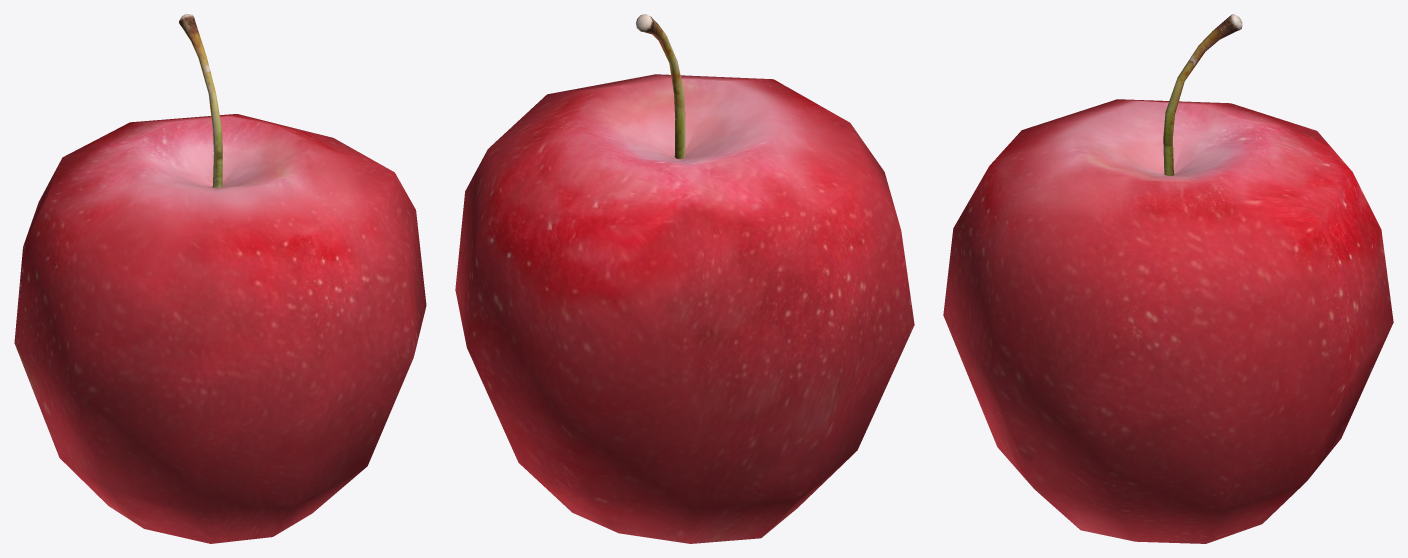
3 renders of one model, left to right at view 1: azimuth 30°, elevation 25°; view 2: azimuth 150°, elevation 25°; view 3: azimuth 270°, elevation 25°, orthographic. The views are drawn at different scales.
Visible parts, largest first — view 1: Apple; view 2: Apple; view 3: Apple.
Boxes of the visible parts, left/top/right/bottom form: Apple: left=14, top=14, right=426, bottom=543; Apple: left=455, top=14, right=914, bottom=543; Apple: left=943, top=14, right=1393, bottom=543.
Bounding box in the file's own units: 0.0749 × 0.0943 × 0.0781.
Materials: 1 (1 with a texture image).
